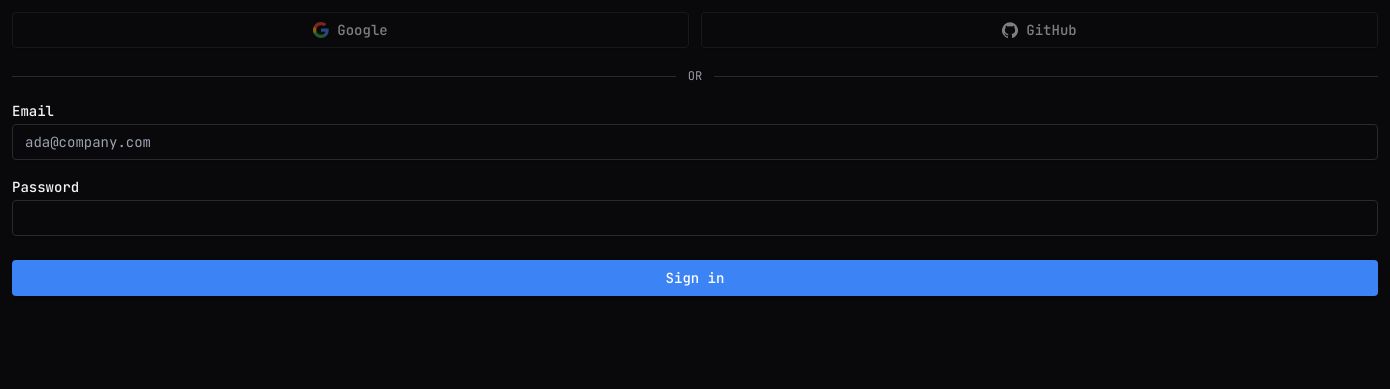
LoginForm › reveals the 2FA field instead of redirecting when the server asks for one
In the field labelled "Email": (695, 142) [12, 124, 1378, 160], type "ada@example.com"
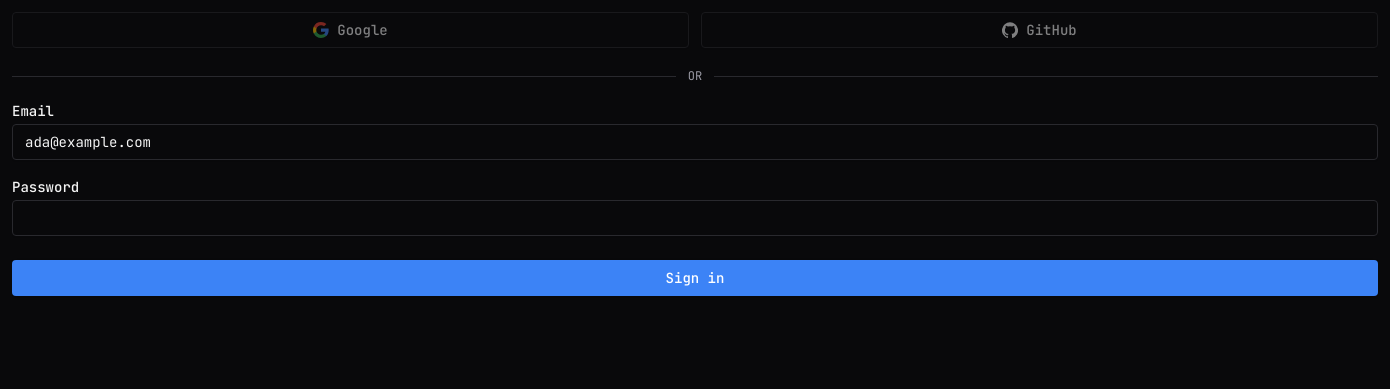
In the password field labelled "Password": (695, 218) [12, 200, 1378, 236], type "correct-password"
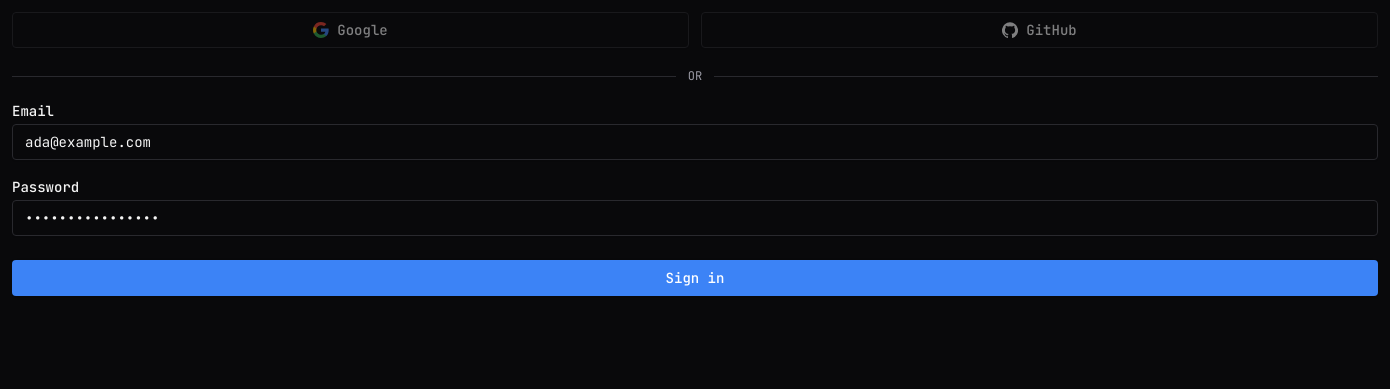
Click the button "Sign in": (695, 278) [12, 260, 1378, 296]
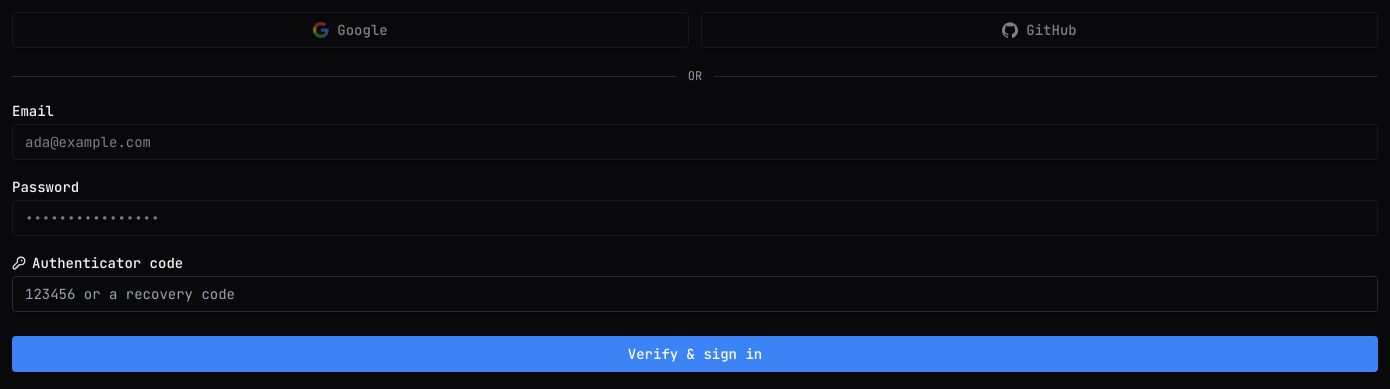
Now the field labelled "Authenticator code" is shown, box [12, 276, 1378, 312]
